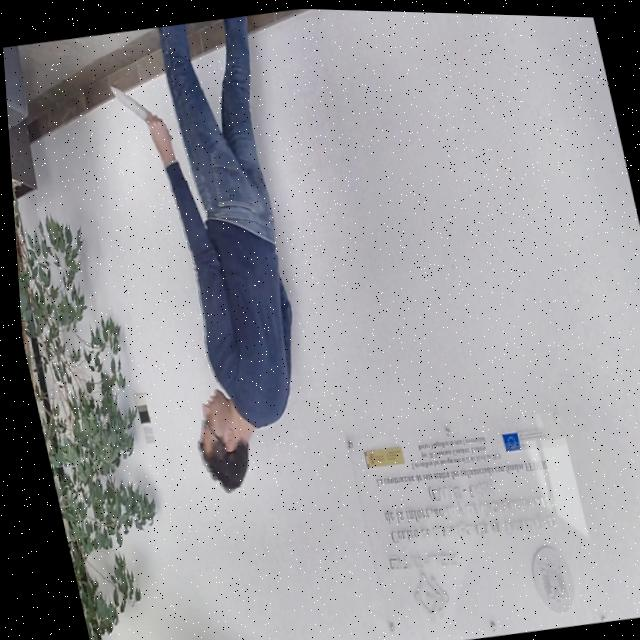knife: (108, 79, 148, 128)
